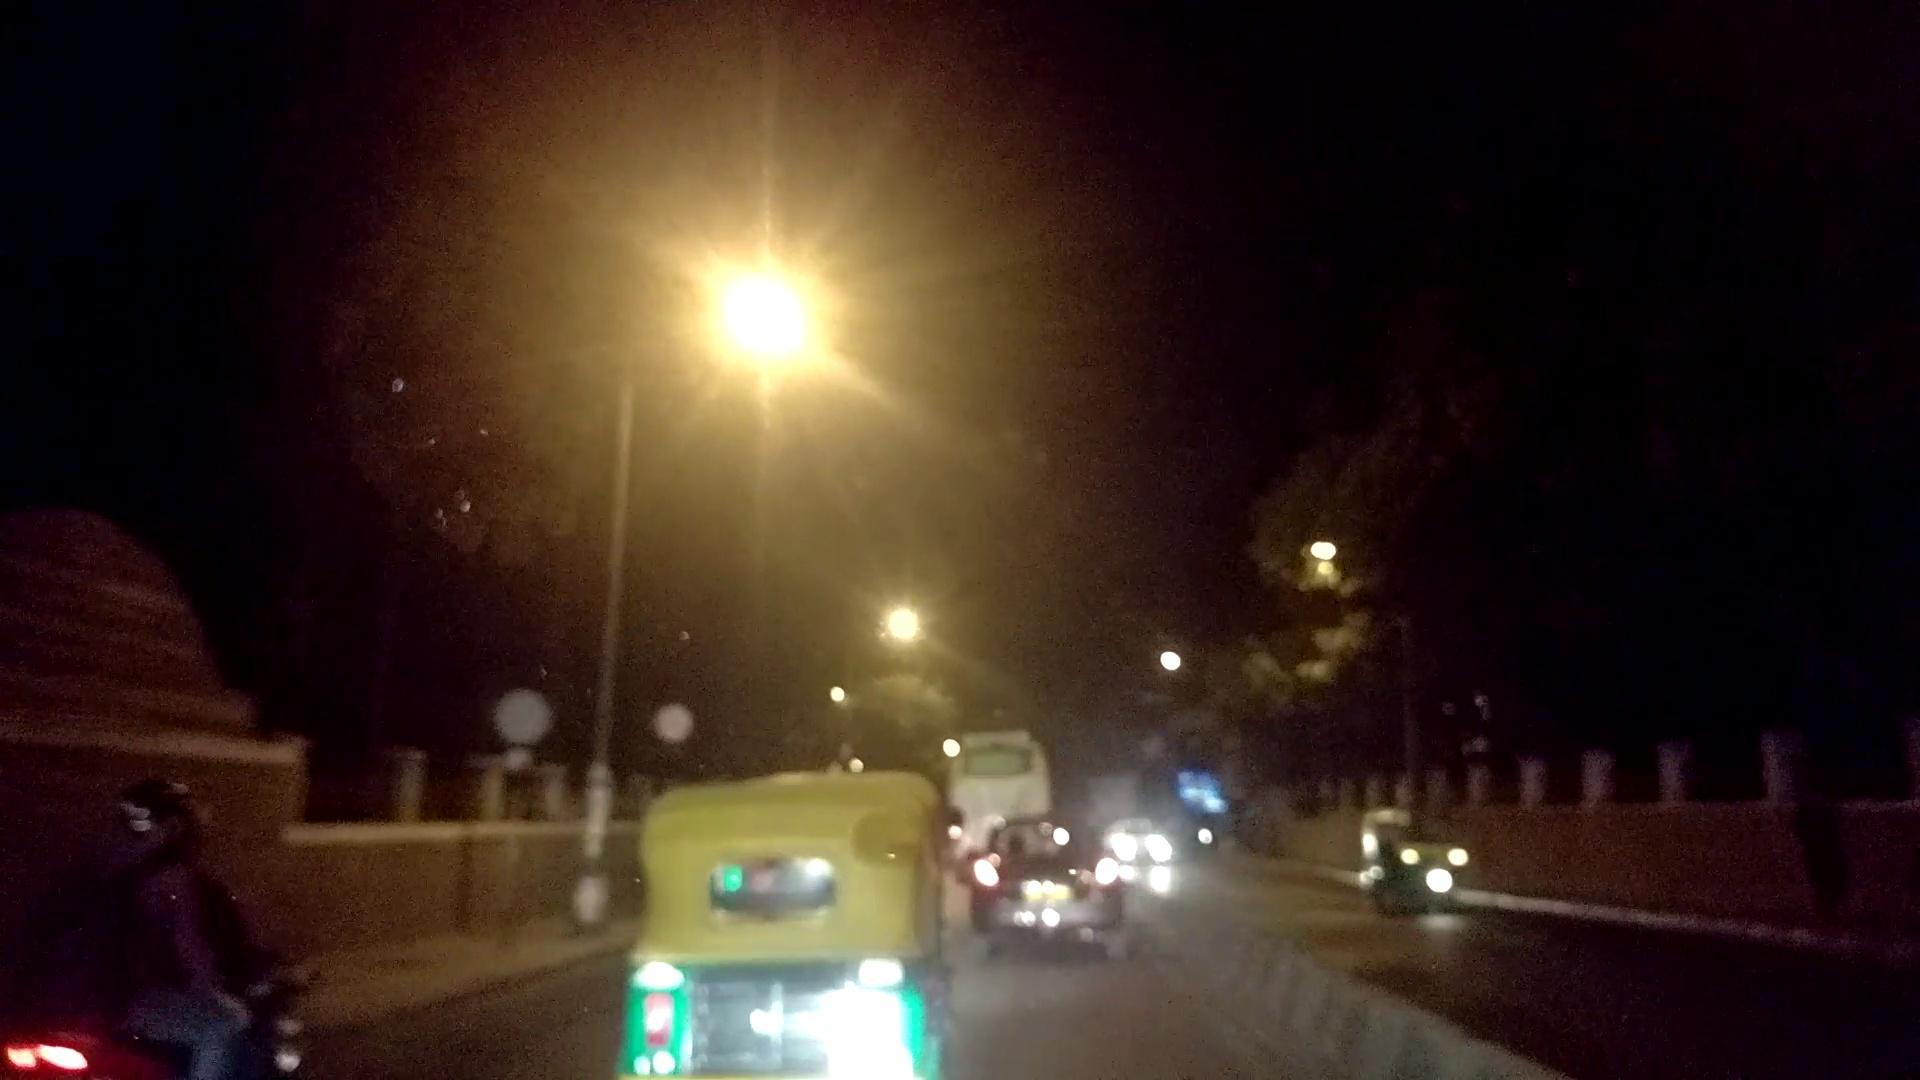on: (560, 162, 911, 524)
